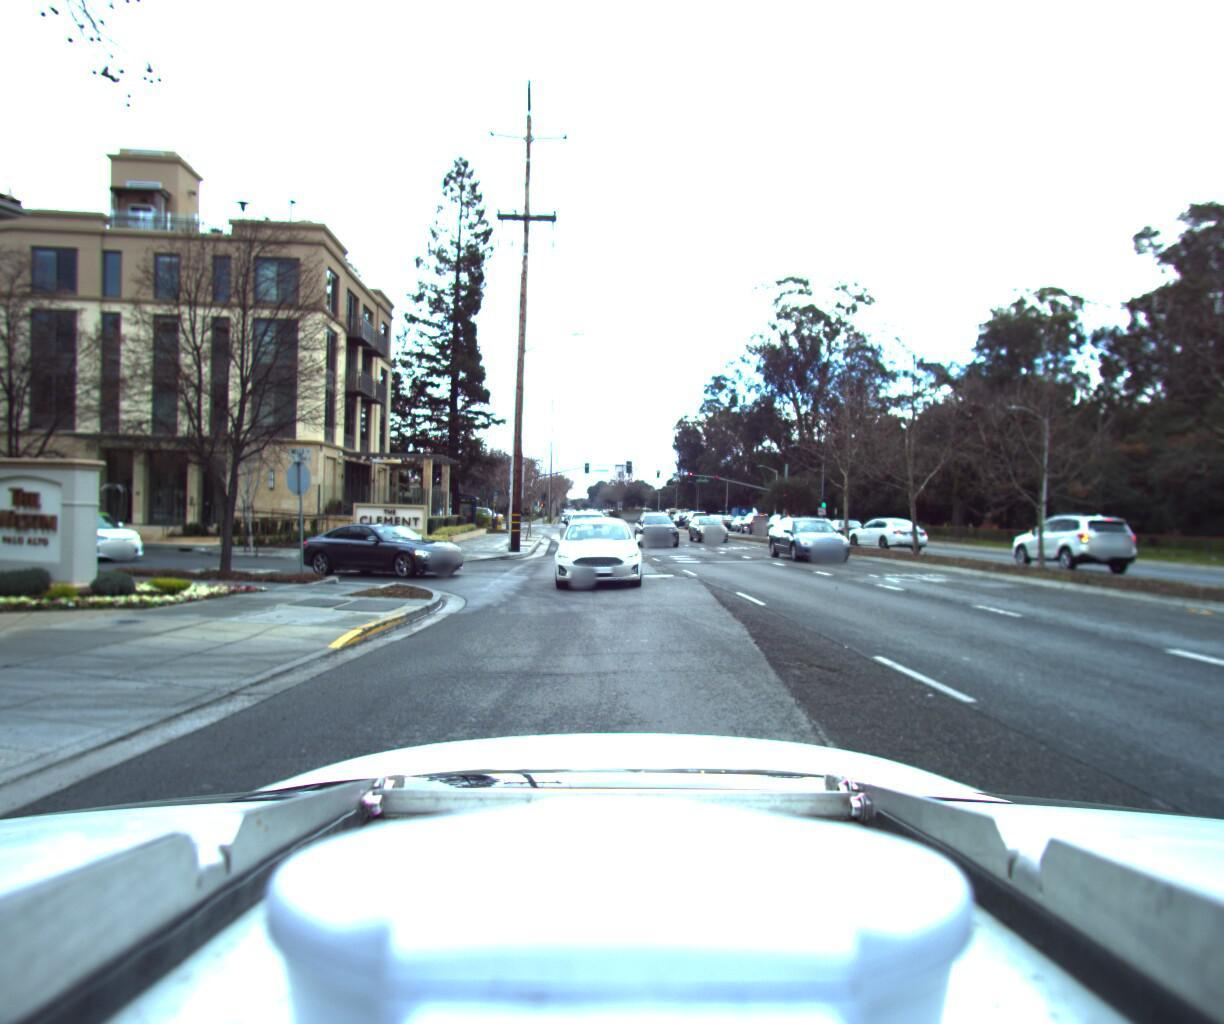car: (285, 510, 480, 579), (996, 502, 1143, 567), (12, 502, 152, 559), (546, 508, 644, 587), (774, 504, 875, 560), (837, 504, 934, 544), (637, 501, 684, 541), (688, 504, 738, 536), (764, 502, 805, 529), (738, 503, 774, 525), (670, 504, 694, 520)
truck: (726, 496, 772, 522)
